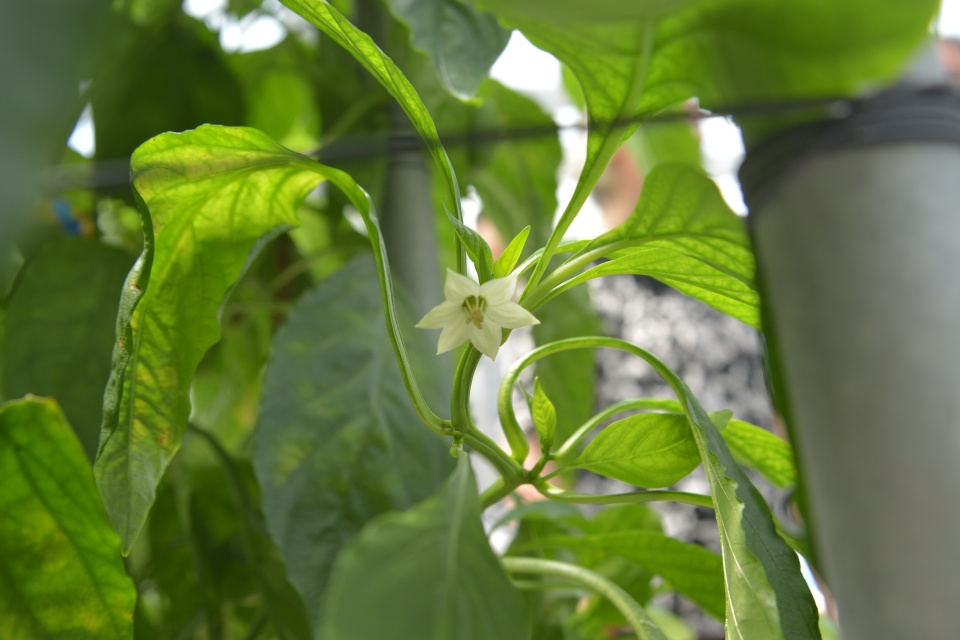flower: (408, 263, 545, 363)
